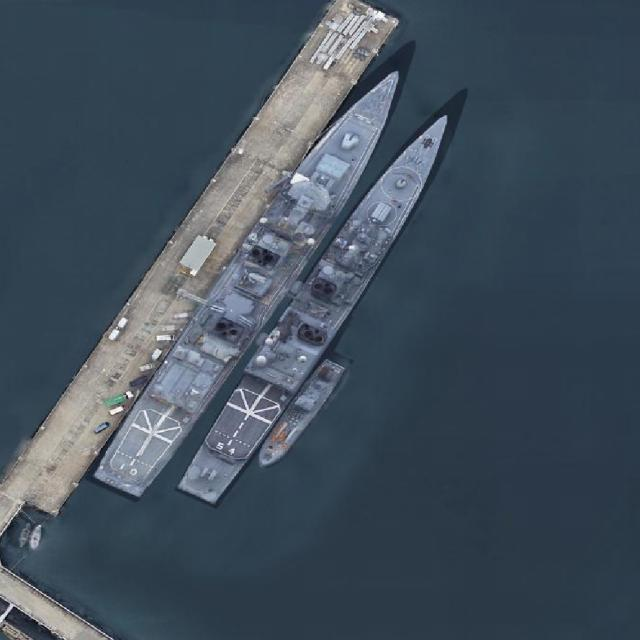Destroyer: (79, 49, 429, 514), (169, 101, 470, 514)
Other Warship: (250, 354, 346, 478)
